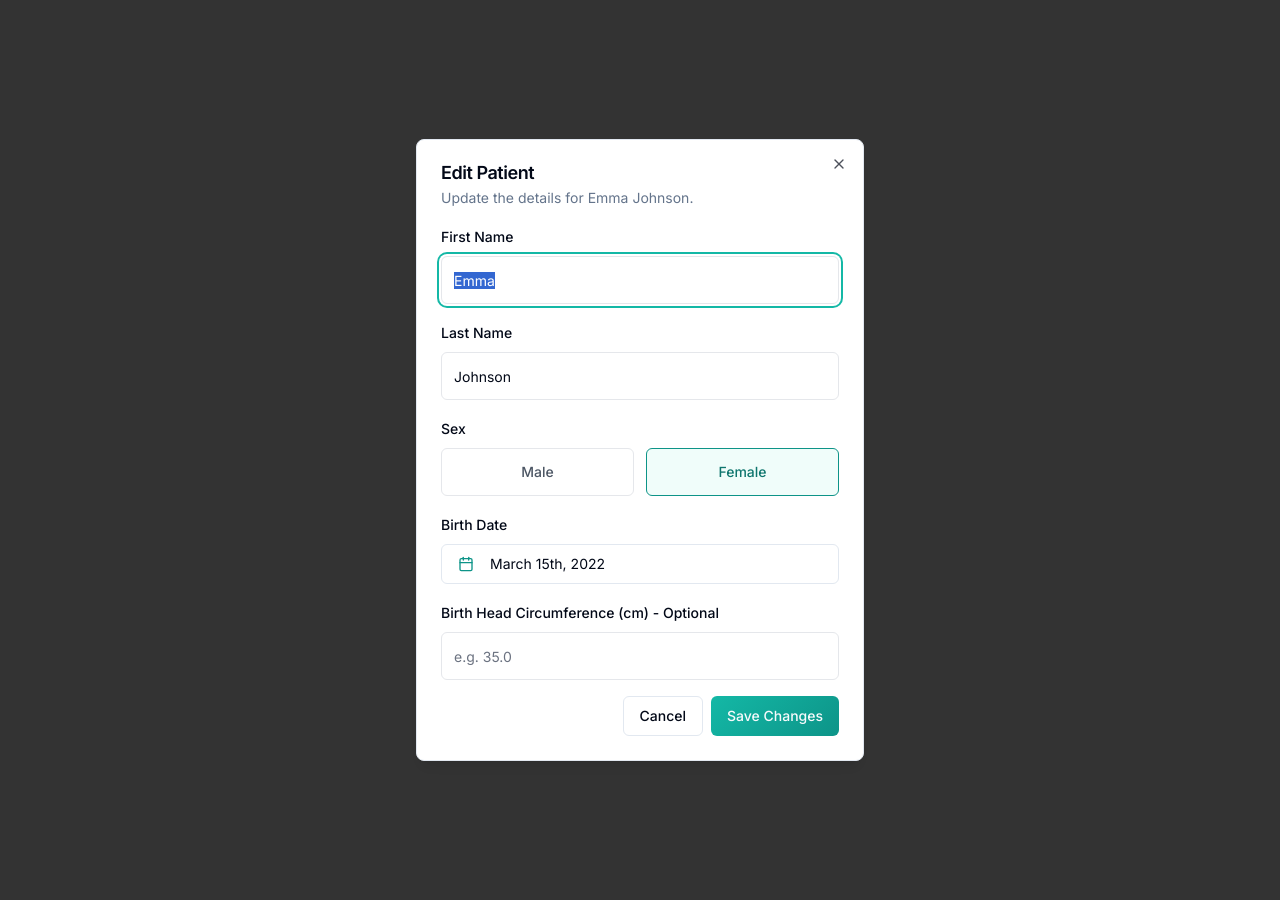
EditPatientDialog › shows validation error when first name is cleared and form submitted
Clear the field labelled "First Name" at (640, 280), box [441,256,839,304]
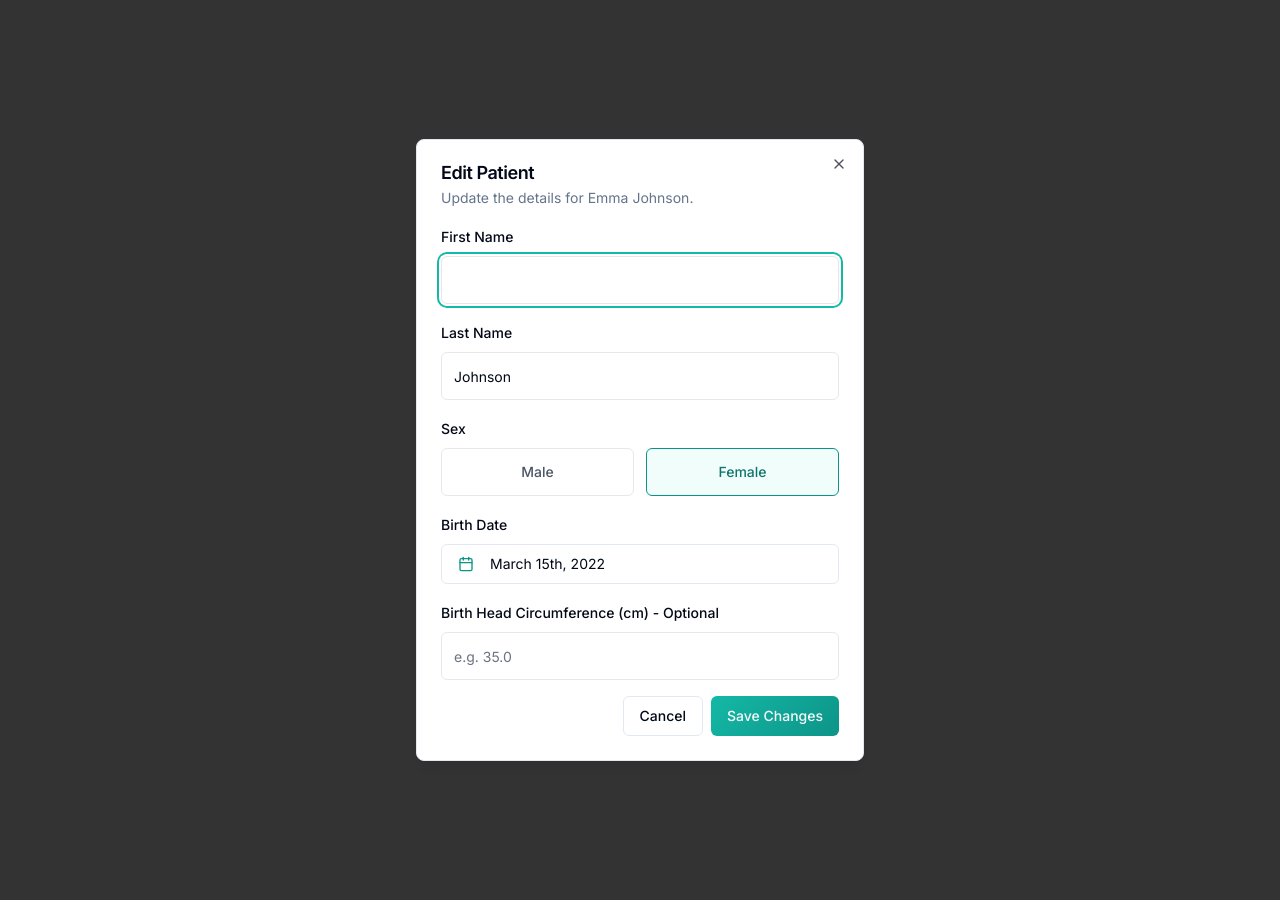
Click the button "Save Changes".
click(775, 716)  # box [711,696,839,736]
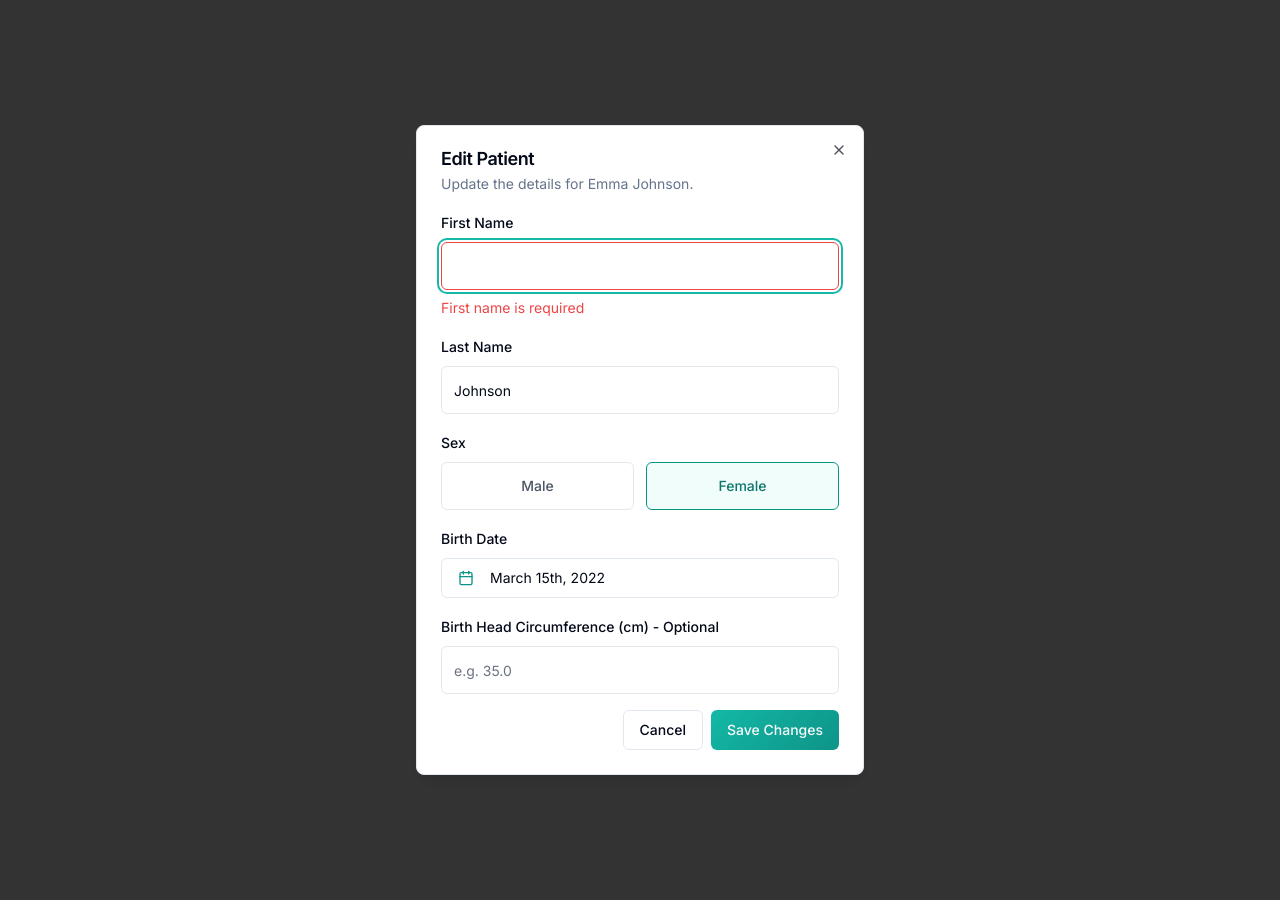
Expected: the text "First name is required" is shown, [441,299,584,316]
